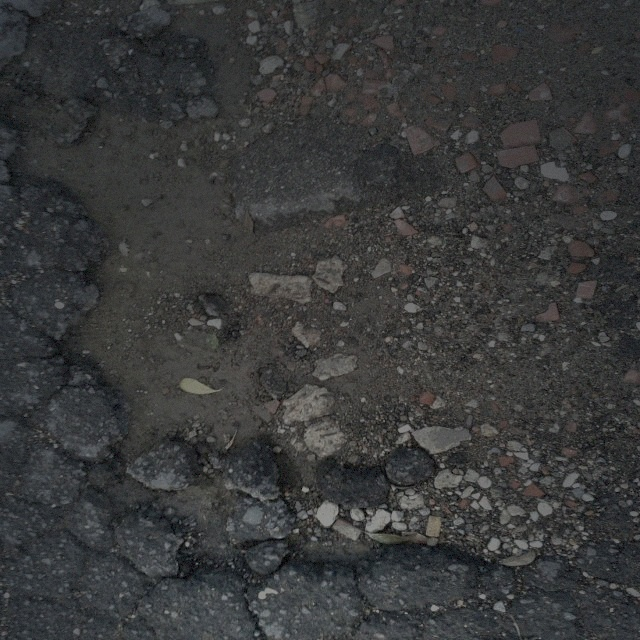pothole: (48, 82, 543, 586)
